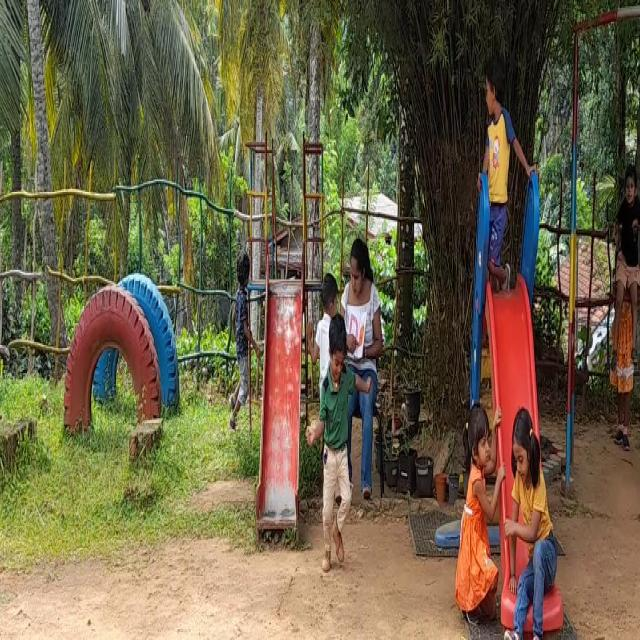adult: (348, 224, 392, 500)
child: (473, 70, 524, 298), (508, 412, 556, 640), (320, 325, 357, 563), (466, 408, 503, 618), (607, 144, 640, 308)
